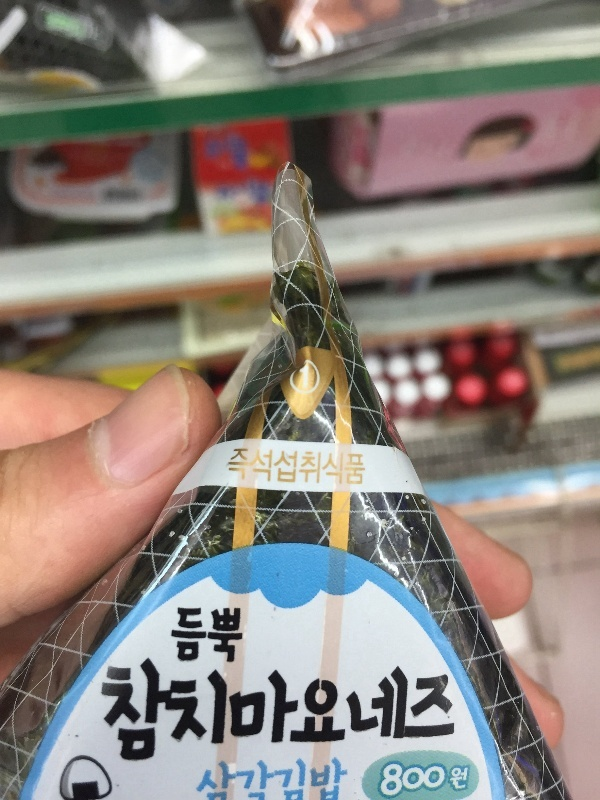text: (113, 653, 128, 773), (129, 653, 144, 773), (145, 653, 160, 773), (161, 653, 176, 773), (177, 653, 192, 773), (193, 653, 208, 773), (209, 653, 224, 773), (241, 656, 256, 751), (257, 656, 272, 751), (273, 656, 288, 751), (289, 656, 304, 751), (305, 656, 320, 751), (321, 656, 336, 751), (337, 656, 352, 751), (353, 656, 368, 751), (369, 656, 384, 751), (385, 656, 400, 751), (401, 656, 416, 751), (417, 656, 432, 751), (433, 656, 448, 751), (104, 653, 112, 773), (177, 605, 192, 668), (193, 605, 208, 668), (209, 605, 224, 668), (225, 605, 240, 668), (231, 656, 240, 751), (449, 656, 458, 751), (225, 653, 231, 773), (385, 754, 400, 800), (401, 754, 416, 800), (417, 754, 432, 800), (433, 754, 448, 800), (449, 754, 464, 800), (209, 756, 224, 798), (225, 756, 240, 798), (241, 756, 256, 798), (257, 756, 272, 798), (273, 756, 288, 798), (289, 756, 304, 798), (305, 756, 320, 798), (321, 756, 336, 798), (337, 756, 351, 798), (257, 448, 273, 484), (305, 451, 321, 486), (241, 448, 256, 484), (289, 451, 304, 486), (337, 451, 352, 485), (353, 451, 366, 485), (276, 451, 288, 486), (324, 451, 336, 485), (465, 754, 471, 800), (233, 448, 240, 484), (173, 605, 176, 668), (241, 605, 244, 668), (204, 756, 208, 798), (382, 754, 384, 800)
